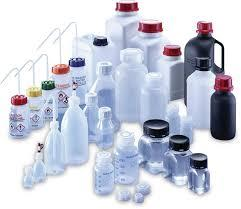Container for household chemicals: (2, 0, 238, 206)
